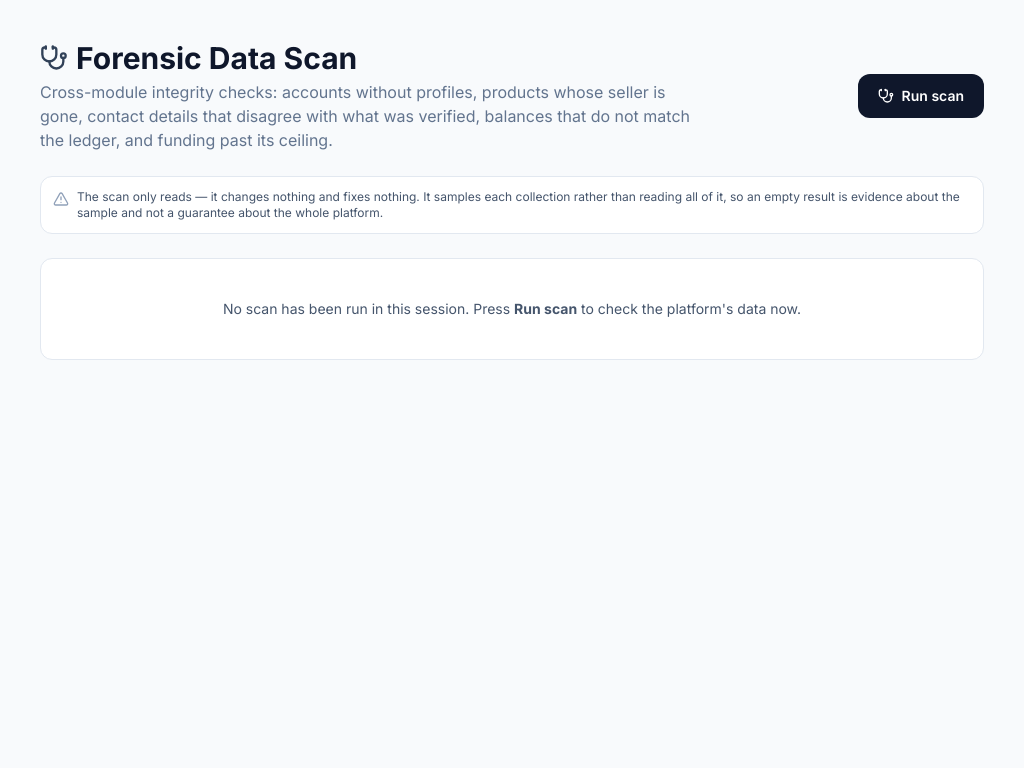
Test case: #266 — what it shows when the scan does run › a second run replaces the previous answers rather than adding to them
Click the button "Run scan" at (921, 96), box [858,74,984,118]
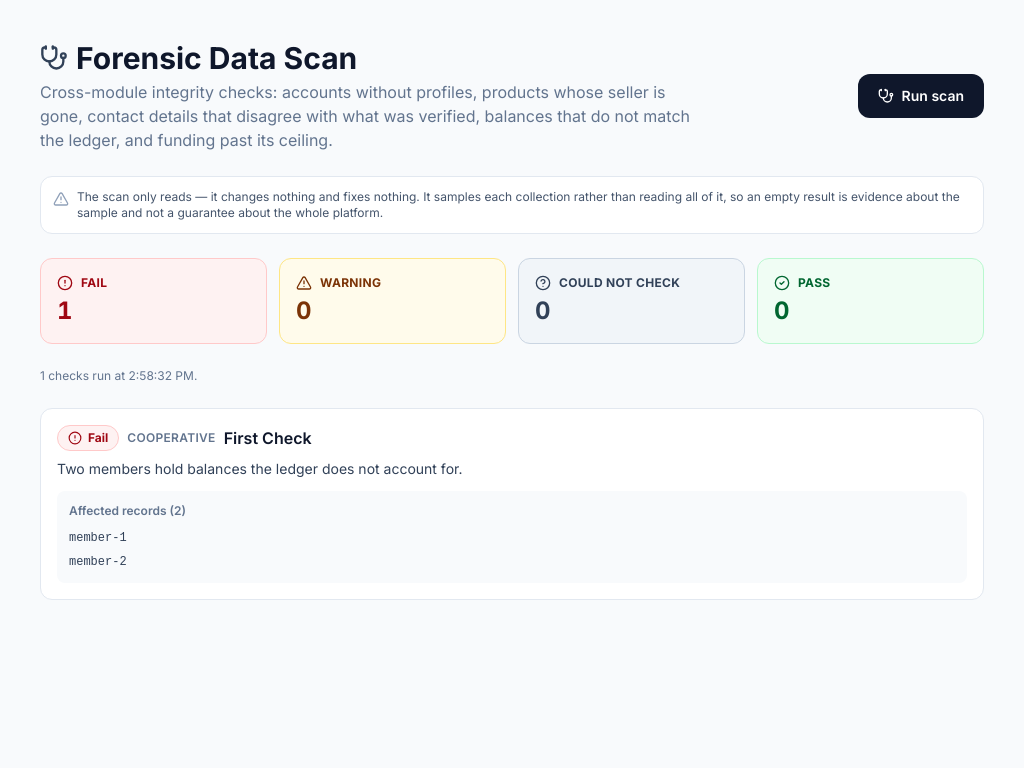
expect the text "First Check" is shown: met, box [224,426,312,450]
Click the button "Run scan" at (921, 96), box [858,74,984,118]
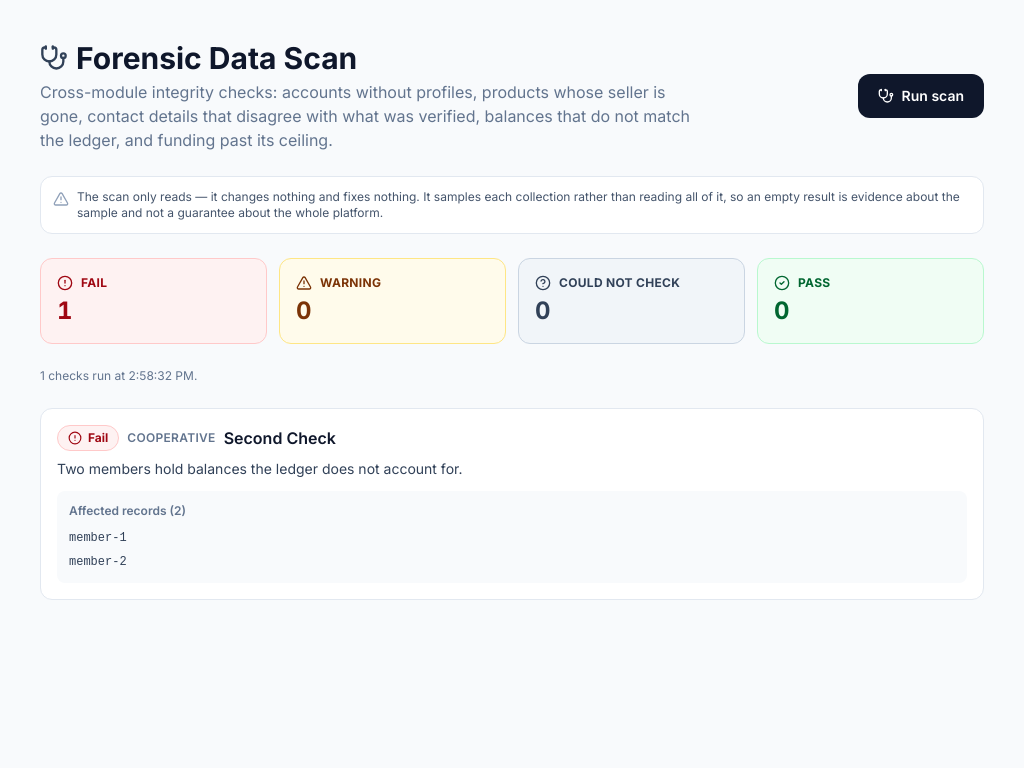
expect the text "Second Check" is shown: met, box [224,426,336,450]
expect the text "First Check" is gone: met
